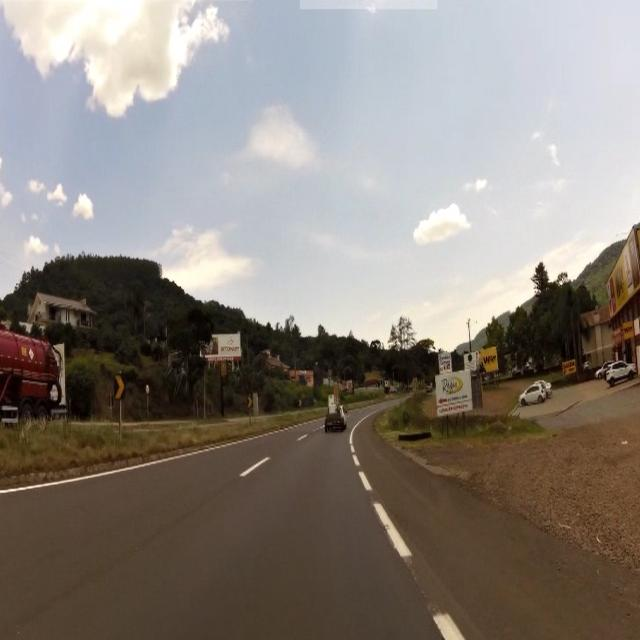Del: (115, 373, 127, 401), (246, 397, 254, 410)
